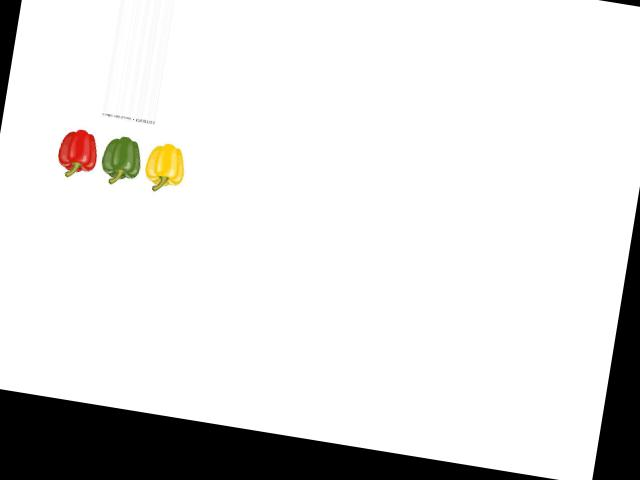bell_pepper: (139, 136, 190, 194)
